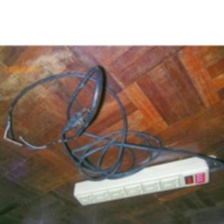three_eye_plug: (67, 153, 215, 209)
